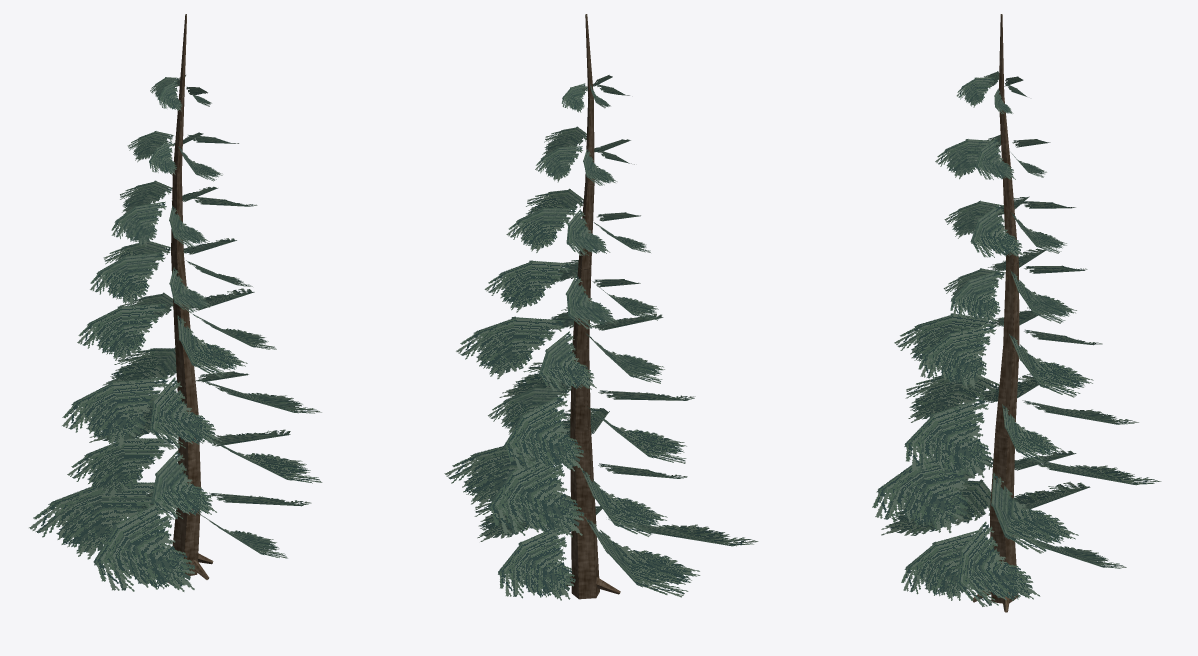
File: spruce_rework_lod.gltf
3 views of the same model, side by side, from view 1: azimuth 30°, elevation 25°; view 2: azimuth 150°, elevation 25°; view 3: azimuth 270°, elevation 25° (orthographic). The views are drawn at different scales.
Visible parts, largest first — view 1: spruce_rework_lod; view 2: spruce_rework_lod; view 3: spruce_rework_lod.
Boxes of the visible parts, <box> form: spruce_rework_lod: <box>29,14,322,591</box>; spruce_rework_lod: <box>444,14,758,600</box>; spruce_rework_lod: <box>872,14,1161,612</box>.
Size of the model in its own units: 5.32 by 8.76 by 5.1.
Materials: 2 (2 with a texture image).
